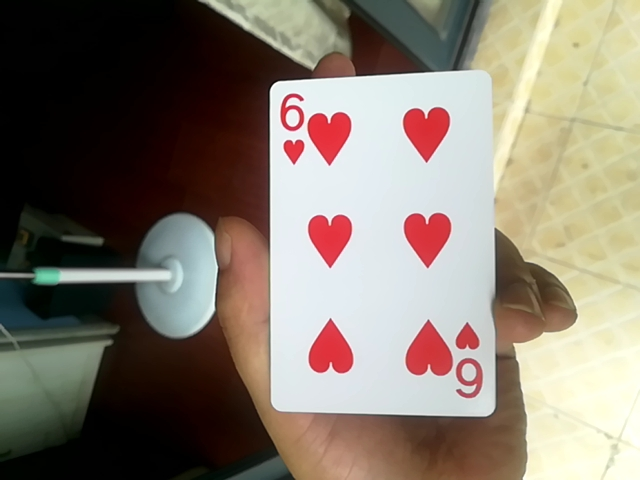hx 6: (275, 64, 506, 423)
